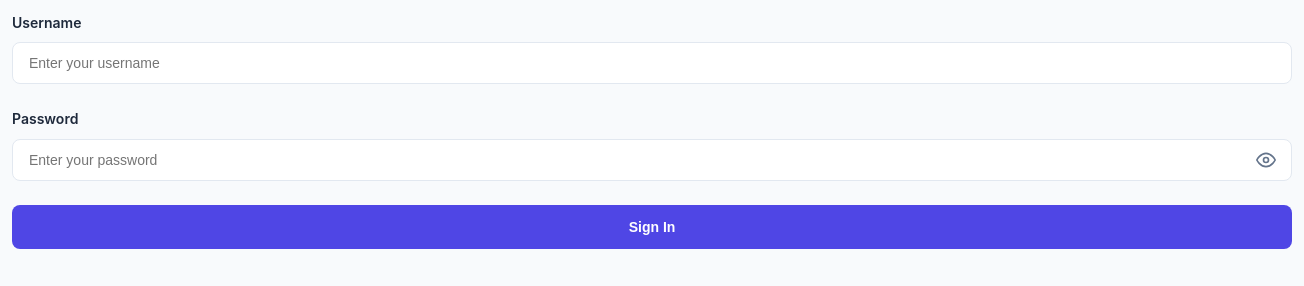
LoginForm › Form submission › should show error message when login fails
Type "testuser" into the field labelled "Username" at (652, 63), box x1=12 y1=42 x2=1292 y2=84
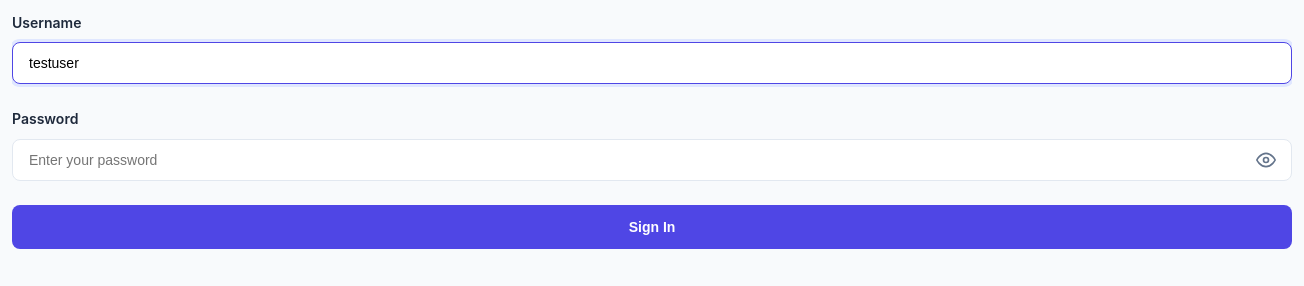
Type "wrongpassword" into the password field with placeholder "Enter your password" at (652, 160), box x1=12 y1=139 x2=1292 y2=181
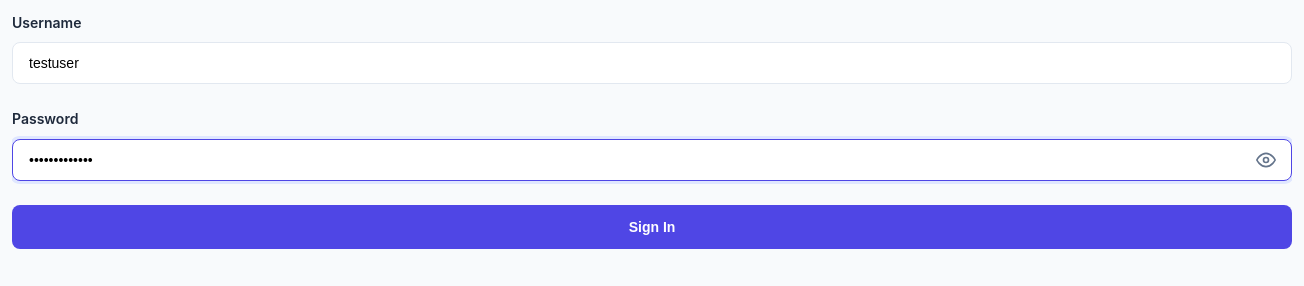
Click the button "Sign In" at (652, 227), box x1=12 y1=205 x2=1292 y2=249
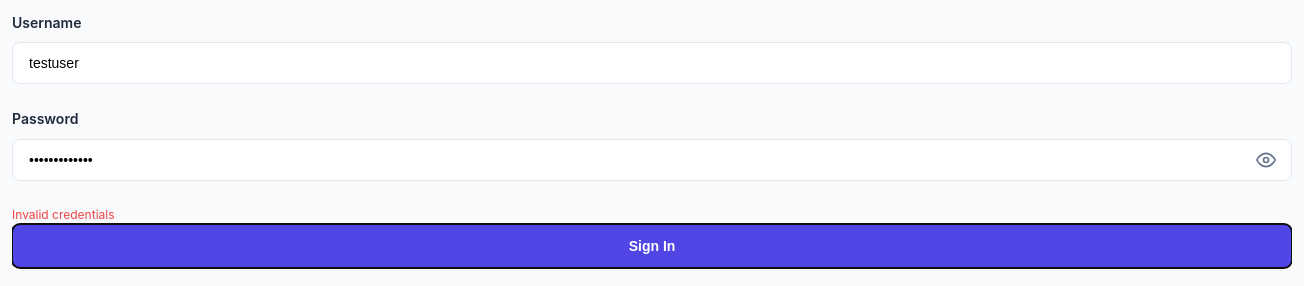
Expected: the text "Invalid credentials" is shown, x1=12 y1=207 x2=114 y2=222
